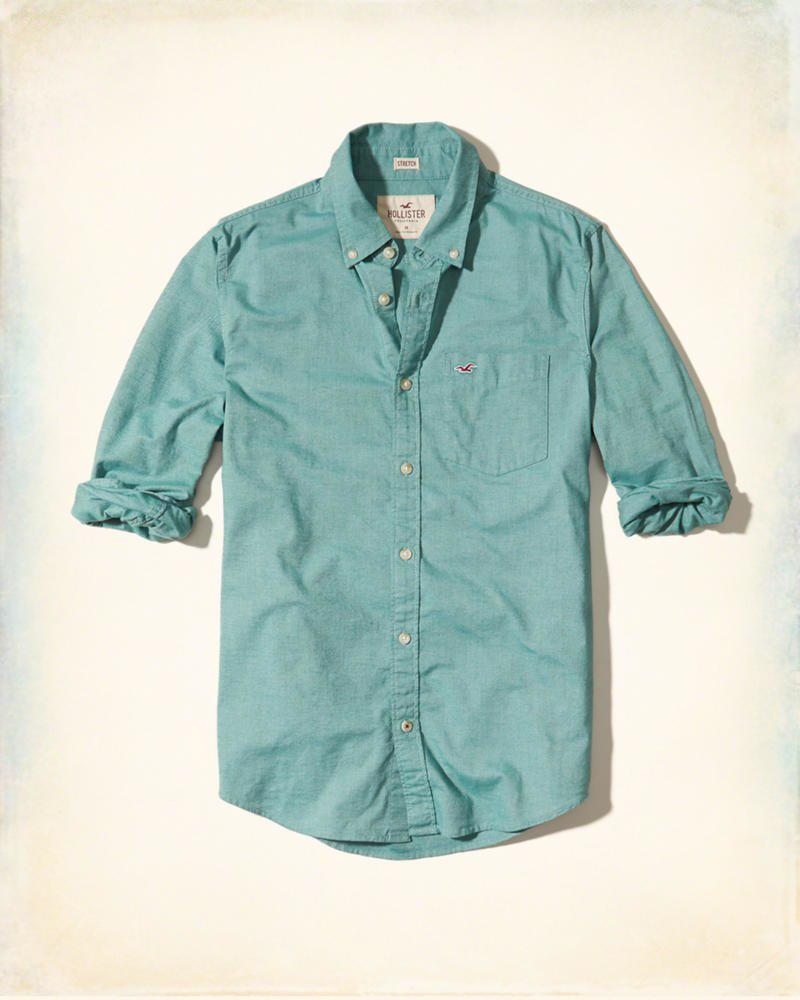teeshirt: (82, 119, 736, 878)
